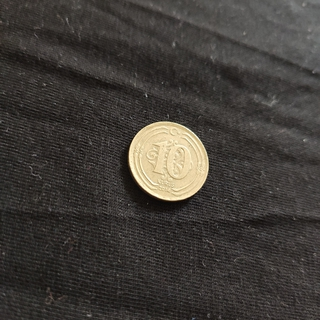10KURUS: (126, 118, 211, 202)
